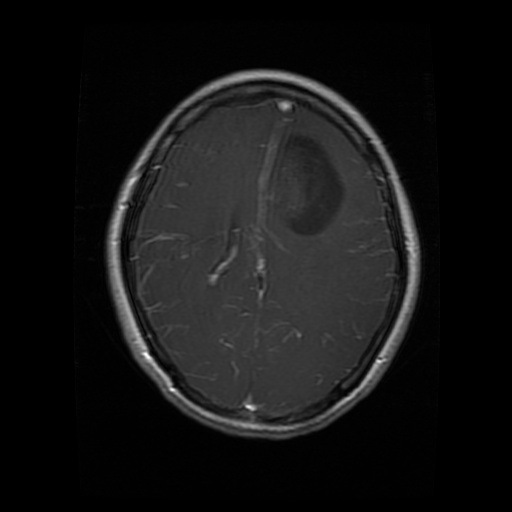glioma: (265, 133, 347, 239)
